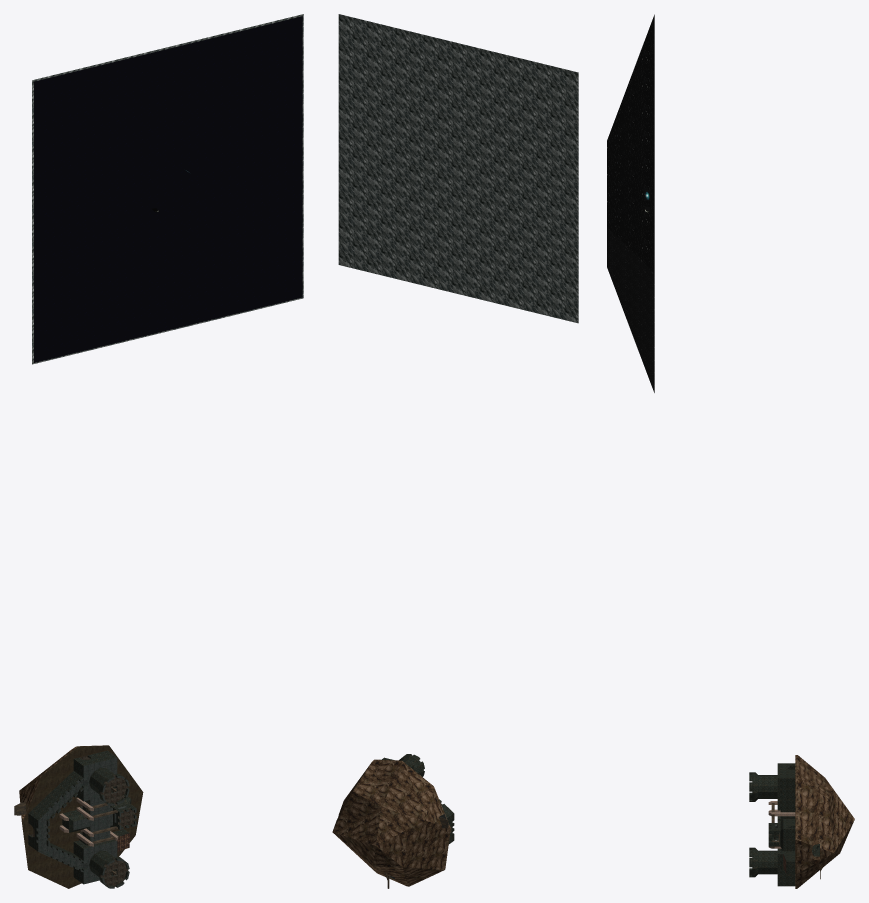
File: DM-Blockade.obj
The picture shows the model from 3 angles, left to right: view 1: azimuth 30°, elevation 25°; view 2: azimuth 150°, elevation 25°; view 3: azimuth 270°, elevation 25°; orthographic projection. The views are drawn at different scales.
Parts seen in each view (by area): view 1: XFX_xeolighting, UTtech1_Misc_UTdirt1, utcrypt_Wall_utAlanWal2b, utcrypt_Floor_rClfFlr0, GenFluid_cloud1, UTtech1_Floor_floor3b, utcrypt_Base_rClfFlr0base, UTtech1_Misc_mlb-rok3; view 2: GenFluid_cloud1, UTtech1_Misc_mlb-rok3, utcrypt_Wall_utAlanWal2b; view 3: GenFluid_Sky_NghSky, UTtech1_Misc_mlb-rok3, utcrypt_Wall_utAlanWal2b.
Boxes of the visible parts, left/top/right/bottom form: XFX_xeolighting: left=34, top=16, right=302, bottom=362; UTtech1_Misc_UTdirt1: left=22, top=745, right=143, bottom=888; utcrypt_Wall_utAlanWal2b: left=28, top=750, right=135, bottom=887; utcrypt_Floor_rClfFlr0: left=36, top=758, right=117, bottom=884; GenFluid_cloud1: left=32, top=14, right=303, bottom=364; UTtech1_Floor_floor3b: left=30, top=755, right=134, bottom=886; utcrypt_Base_rClfFlr0base: left=38, top=776, right=136, bottom=888; UTtech1_Misc_mlb-rok3: left=19, top=745, right=108, bottom=869; GenFluid_cloud1: left=338, top=14, right=578, bottom=323; UTtech1_Misc_mlb-rok3: left=332, top=759, right=450, bottom=886; utcrypt_Wall_utAlanWal2b: left=381, top=754, right=454, bottom=844; GenFluid_Sky_NghSky: left=607, top=14, right=654, bottom=392; UTtech1_Misc_mlb-rok3: left=795, top=755, right=854, bottom=888; utcrypt_Wall_utAlanWal2b: left=749, top=763, right=819, bottom=886.
Bounding box in the file's own units: 117 × 368 × 101.
